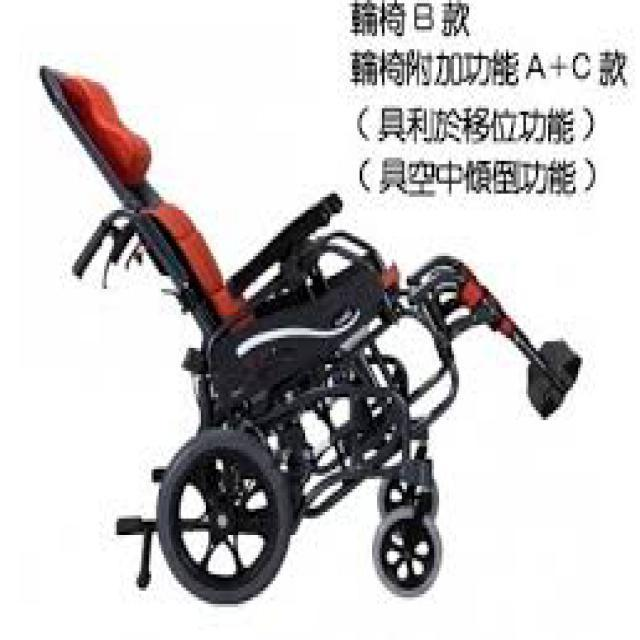wheelchairs: (37, 64, 580, 602)
